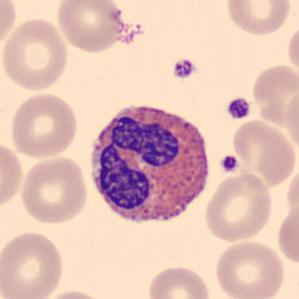Eosinophil: (84, 95, 217, 236)
Platelets: (225, 96, 252, 121), (171, 56, 198, 80), (218, 153, 241, 175)
RBC: (0, 16, 71, 93), (202, 171, 274, 244), (18, 154, 90, 226), (7, 90, 81, 160), (229, 117, 297, 188), (0, 228, 67, 299), (212, 238, 287, 299), (54, 0, 126, 55), (250, 61, 297, 129), (223, 0, 293, 38), (146, 263, 214, 299), (0, 138, 26, 212), (274, 200, 299, 267), (283, 86, 299, 156), (0, 0, 18, 54), (39, 287, 105, 299), (286, 22, 298, 78)
